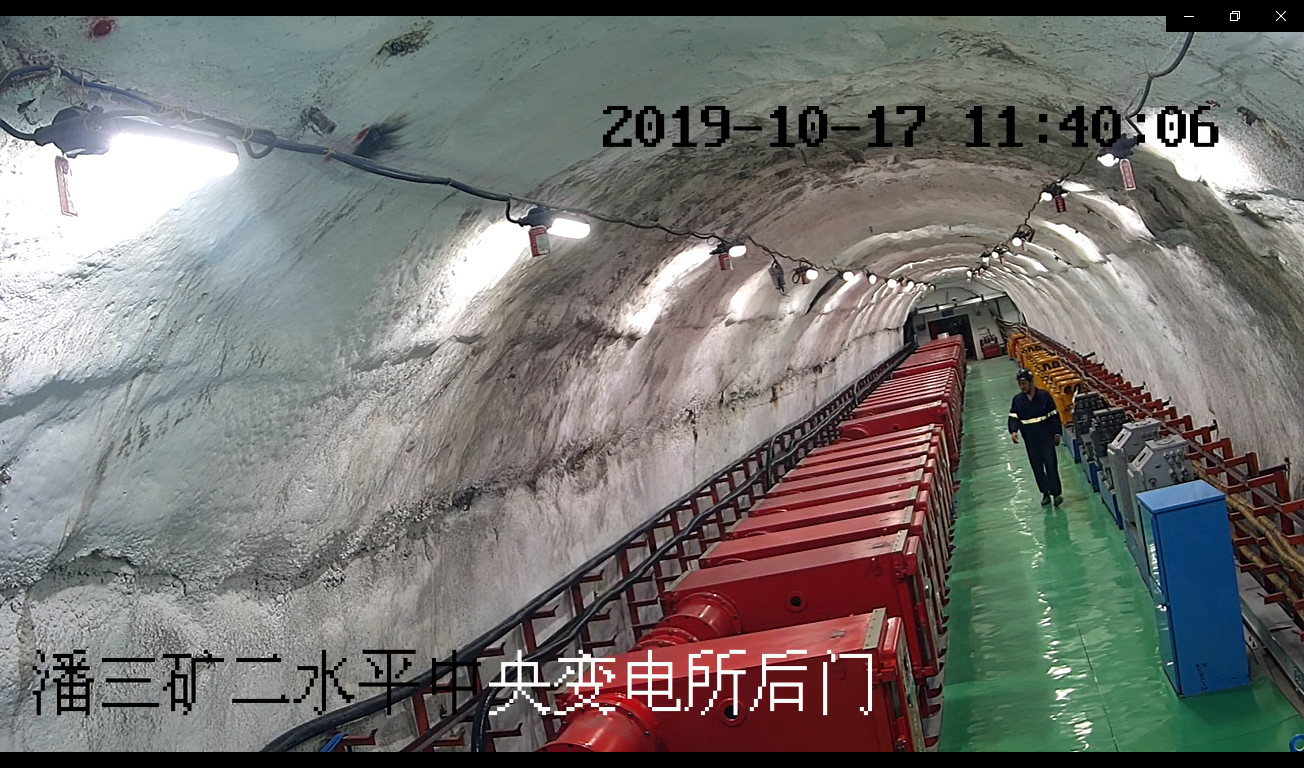helmet: (1016, 367, 1033, 381)
